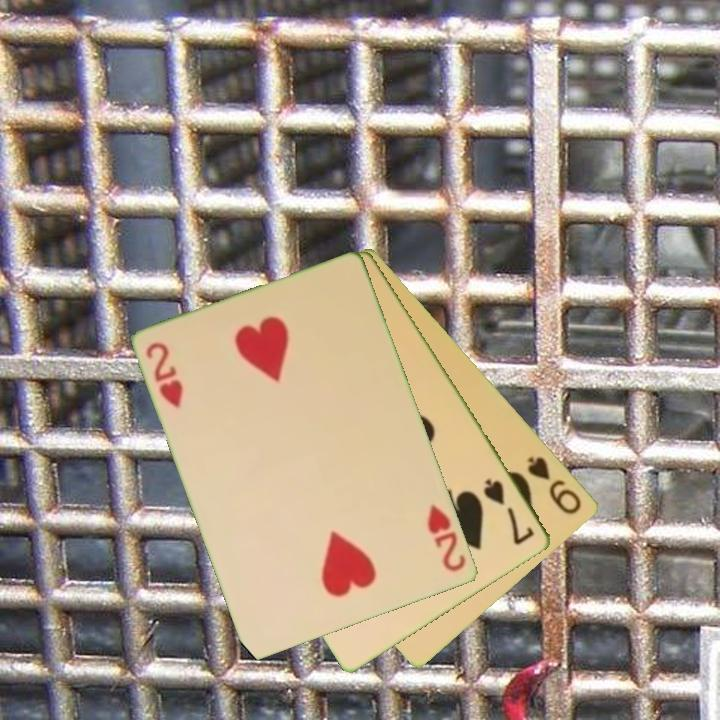2h: (424, 501, 469, 575), (143, 339, 187, 411)
7s: (480, 475, 538, 548)
9s: (524, 453, 585, 518)
